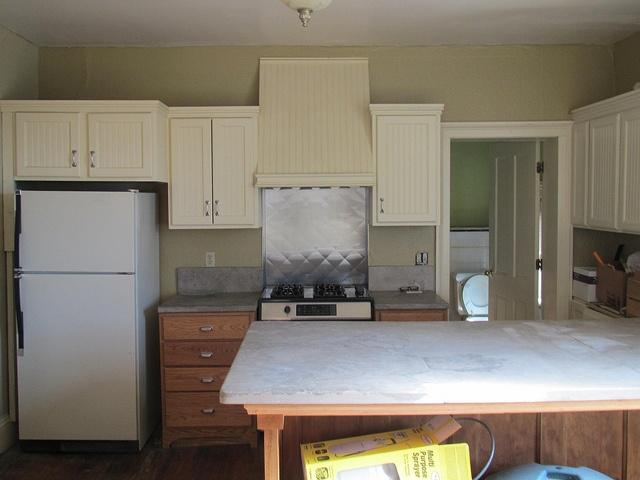Lemari: (167, 106, 261, 229), (13, 107, 157, 181), (369, 102, 444, 226)
